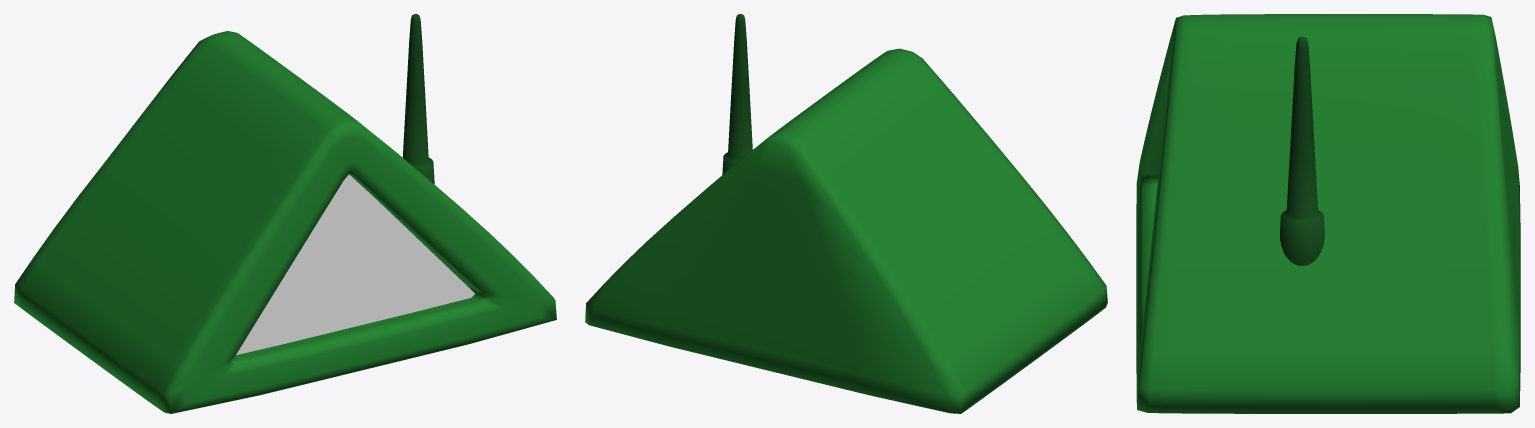
File: Treader_Head.fbx
3 renders of one model, left to right at view 1: azimuth 30°, elevation 25°; view 2: azimuth 150°, elevation 25°; view 3: azimuth 270°, elevation 25°, orthographic. The views are drawn at different scales.
Parts seen in each view (by area): view 1: Treader_Head; view 2: Treader_Head; view 3: Treader_Head.
Part boxes in pixels (box(x1,y1,x2,y2)): Treader_Head: box(14, 14, 556, 413); Treader_Head: box(585, 14, 1107, 413); Treader_Head: box(1136, 14, 1520, 413).
Size of the model in its own units: 0.4418 by 0.3007 by 0.312.
